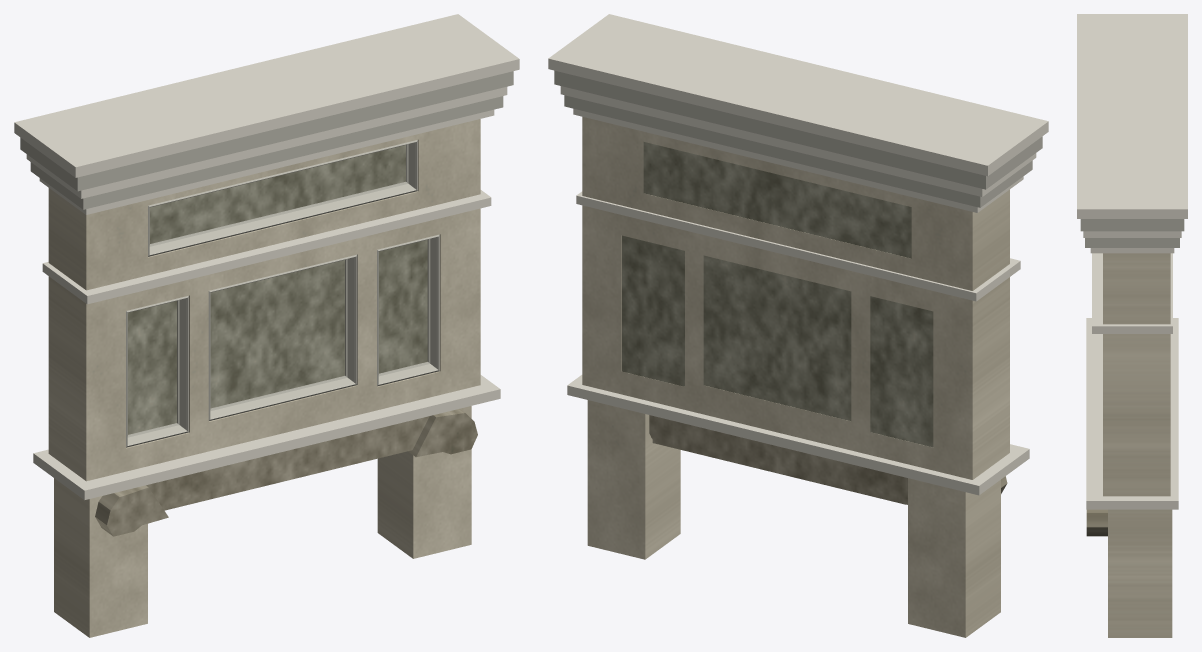
Rendered from wujiazhai-no19-four-gate-panels-far.glb.
3 renders of one model, left to right at view 1: azimuth 30°, elevation 25°; view 2: azimuth 150°, elevation 25°; view 3: azimuth 270°, elevation 25°, orthographic. The views are drawn at different scales.
Parts seen in each view (by area): view 1: 大洪村吴家宅19号正门的四块灰饰与层叠门额; view 2: 大洪村吴家宅19号正门的四块灰饰与层叠门额; view 3: 大洪村吴家宅19号正门的四块灰饰与层叠门额.
Boxes of the visible parts, left/top/right/bottom form: 大洪村吴家宅19号正门的四块灰饰与层叠门额: left=14, top=14, right=519, bottom=637; 大洪村吴家宅19号正门的四块灰饰与层叠门额: left=548, top=14, right=1048, bottom=637; 大洪村吴家宅19号正门的四块灰饰与层叠门额: left=1077, top=14, right=1187, bottom=637.
Size of the model in its own units: 2.23 by 2.36 by 0.535.
5 materials, 3 textured.
